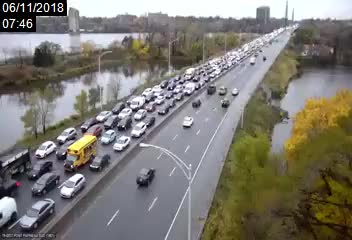congestion: (1, 144, 109, 230), (38, 100, 153, 155), (111, 78, 183, 118), (158, 65, 207, 98), (191, 57, 228, 79), (212, 47, 246, 65)
personal_car: (19, 197, 55, 231), (31, 171, 61, 197), (62, 173, 85, 201), (26, 160, 55, 181), (91, 153, 111, 174), (34, 141, 57, 159), (136, 166, 155, 187), (56, 127, 75, 146), (55, 139, 72, 159), (114, 135, 130, 153), (131, 122, 146, 138), (133, 108, 148, 122), (102, 127, 114, 144), (96, 108, 110, 122), (181, 115, 194, 130), (131, 96, 144, 111), (118, 118, 131, 132), (119, 107, 133, 120), (104, 116, 119, 128), (113, 102, 126, 115), (157, 103, 170, 116), (145, 116, 156, 129), (141, 87, 154, 98), (81, 119, 95, 129), (153, 95, 166, 105), (207, 84, 217, 96), (191, 98, 202, 108), (221, 98, 231, 109), (146, 101, 156, 112), (230, 86, 240, 96), (219, 85, 228, 96), (167, 98, 176, 108), (144, 94, 153, 104)
school_bus: (64, 135, 97, 171)
truck: (1, 144, 29, 182)
